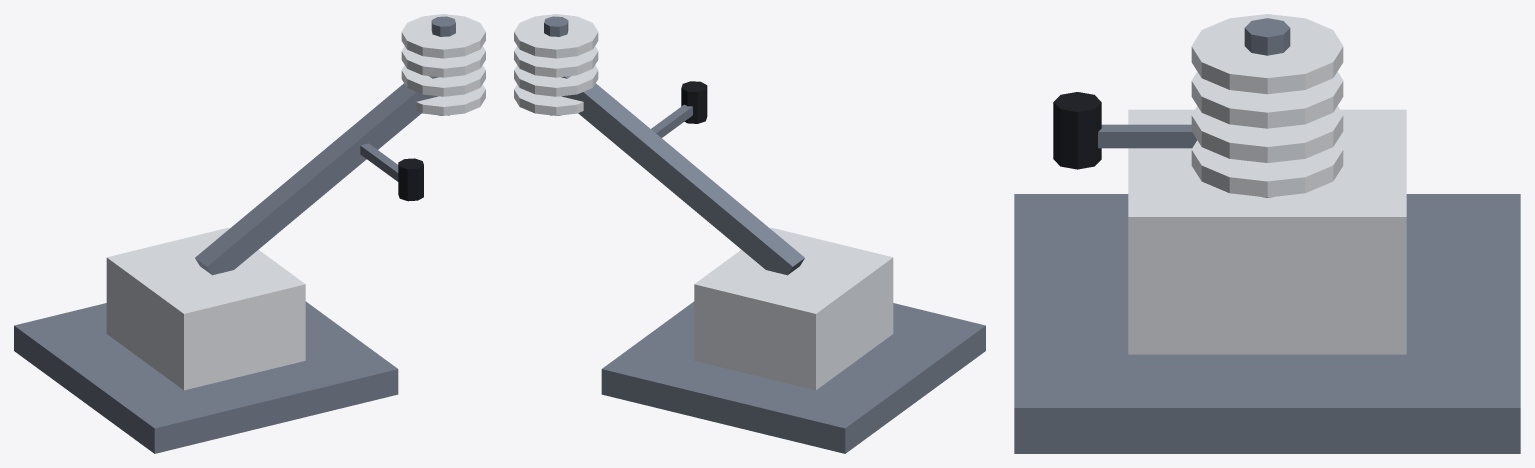
File: Inst_Weather.glb
3 views of the same model, side by side, from view 1: azimuth 30°, elevation 25°; view 2: azimuth 150°, elevation 25°; view 3: azimuth 270°, elevation 25° (orthographic). The views are drawn at different scales.
Visible parts, largest first — view 1: Inst_Weather; view 2: Inst_Weather; view 3: Inst_Weather.
Part boxes in pixels (x1,y1,x2,y2): Inst_Weather: (14,14,485,453); Inst_Weather: (514,14,985,453); Inst_Weather: (1014,14,1520,453).
Size of the model in its own units: 0.65 by 0.46 by 0.4.
